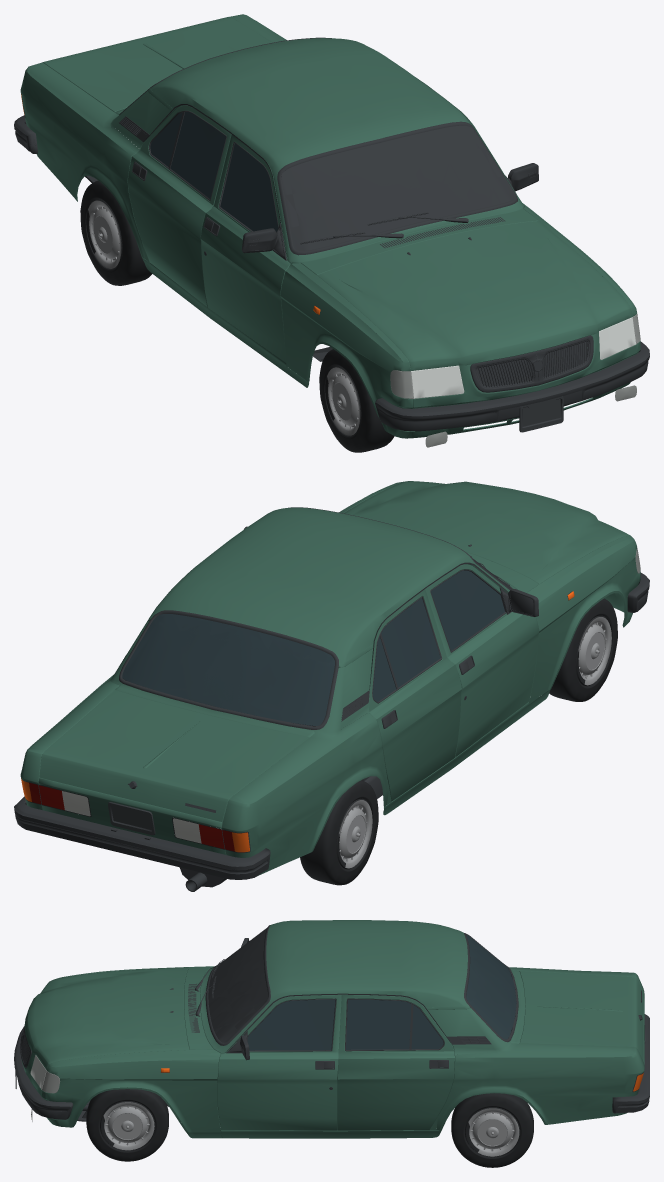
File: gaz31029.glb
3 renders of one model, top to bottom at view 1: azimuth 30°, elevation 25°; view 2: azimuth 150°, elevation 25°; view 3: azimuth 270°, elevation 25°, orthographic. The views are drawn at different scales.
Parts seen in each view (by area): view 1: chassisbody, chassis_trim, glass, wheel_rr, wheel_fr, headlights, interior, front_auxiliary; view 2: chassisbody, glass, chassis_trim, wheel_rr, wheel_fr, reverse_lights, brake_lights; view 3: chassisbody, chassis_trim, glass, wheel_rl, wheel_fl.
Boxes of the visible parts, <box> form: chassisbody: <box>20,14,640,438</box>; chassis_trim: <box>14,37,649,432</box>; glass: <box>150,112,278,231</box>; wheel_rr: <box>80,180,152,285</box>; wheel_fr: <box>319,349,394,452</box>; headlights: <box>411,317,636,398</box>; interior: <box>138,131,587,386</box>; front_auxiliary: <box>390,312,640,447</box>; chassisbody: <box>20,481,640,875</box>; glass: <box>122,570,505,725</box>; chassis_trim: <box>14,507,649,891</box>; wheel_rr: <box>300,780,378,885</box>; wheel_fr: <box>549,598,617,701</box>; reverse_lights: <box>62,791,201,843</box>; brake_lights: <box>39,785,224,848</box>; chassisbody: <box>21,920,644,1138</box>; chassis_trim: <box>14,925,649,1119</box>; glass: <box>247,935,516,1050</box>; wheel_rl: <box>451,1093,533,1167</box>; wheel_fl: <box>86,1089,168,1161</box>.
Bounding box in the file's own units: 2.14 × 1.59 × 5.2.
